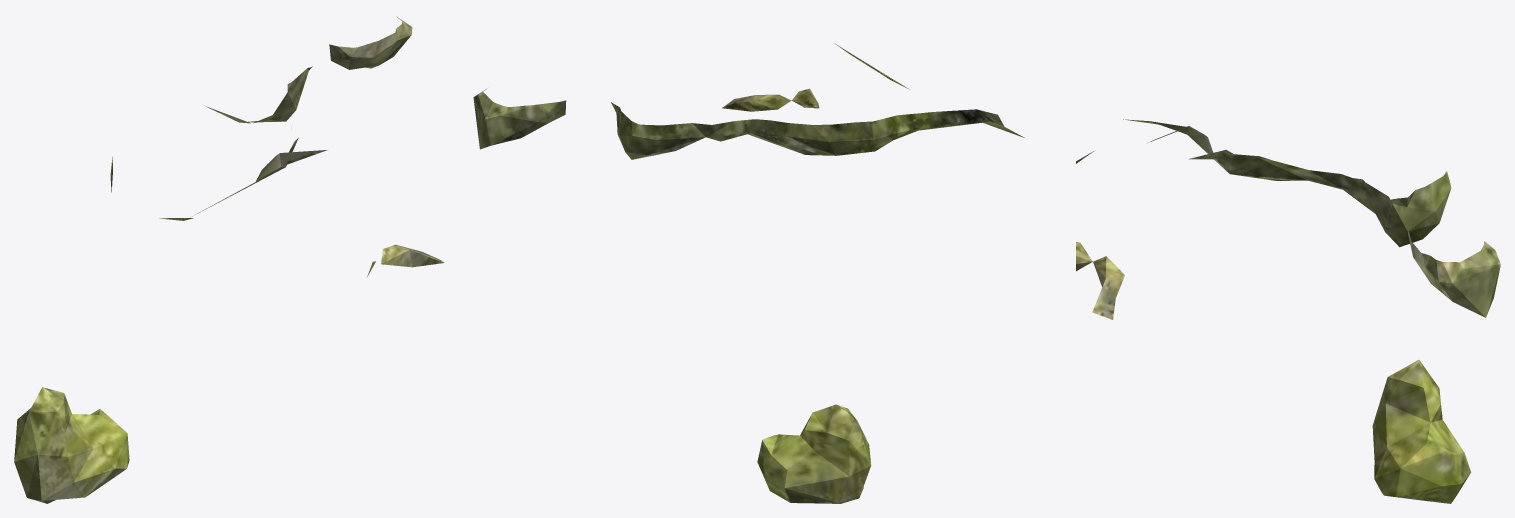
The picture shows the model from 3 angles, left to right: view 1: azimuth 30°, elevation 25°; view 2: azimuth 150°, elevation 25°; view 3: azimuth 270°, elevation 25°; orthographic projection. The views are drawn at different scales.
Size of the model in its own units: 2.14 by 1.67 by 1.5.
1 material, 1 textured.
